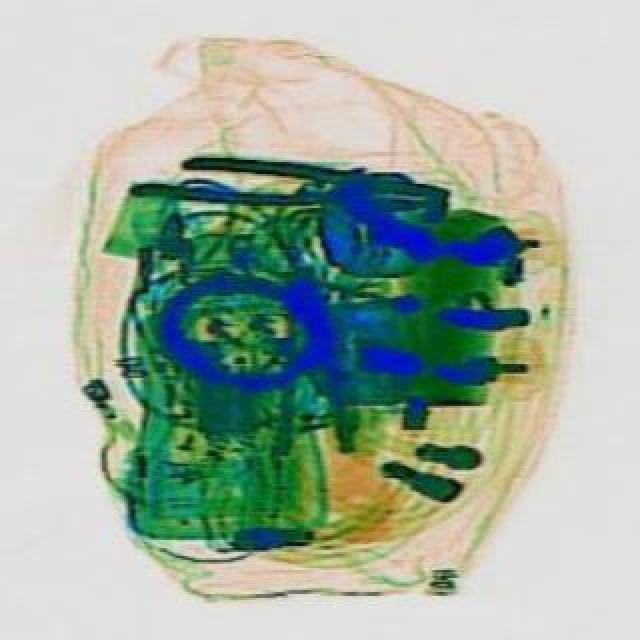wrench: (124, 144, 444, 220)
